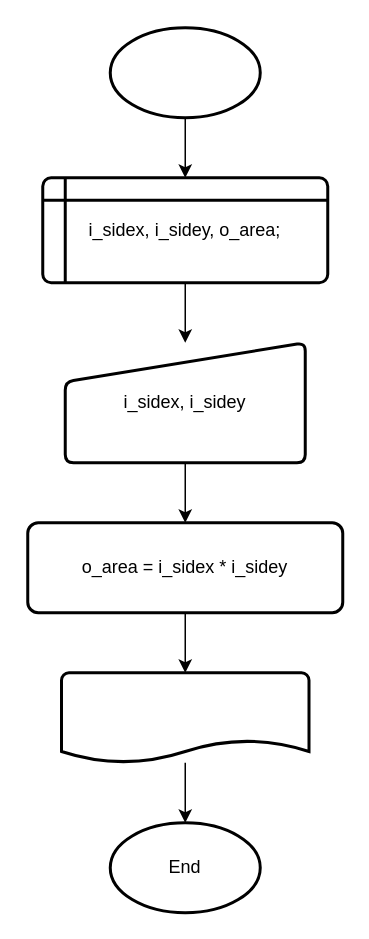
Image size: 369x939. Some labels were removed from this diagram. Here are the shapes that lost their labels. From the top down, the box of each, then its label:
(108, 26, 261, 118): Start
(59, 670, 310, 764): o_area
